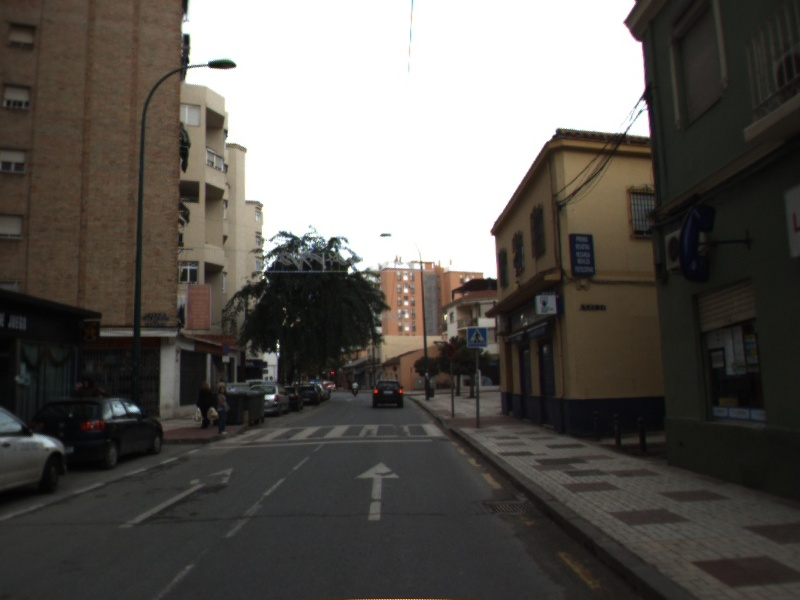STRAIGHT: (115, 465, 235, 531), (352, 460, 401, 523)
